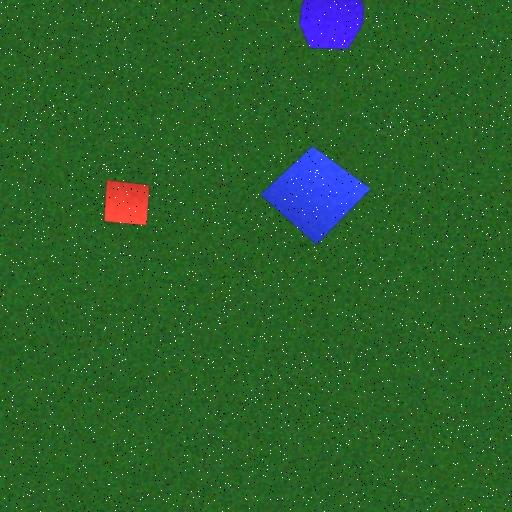BLUE_SQUARE: (260, 146, 372, 246)
RED_SQUARE: (104, 180, 150, 226)
